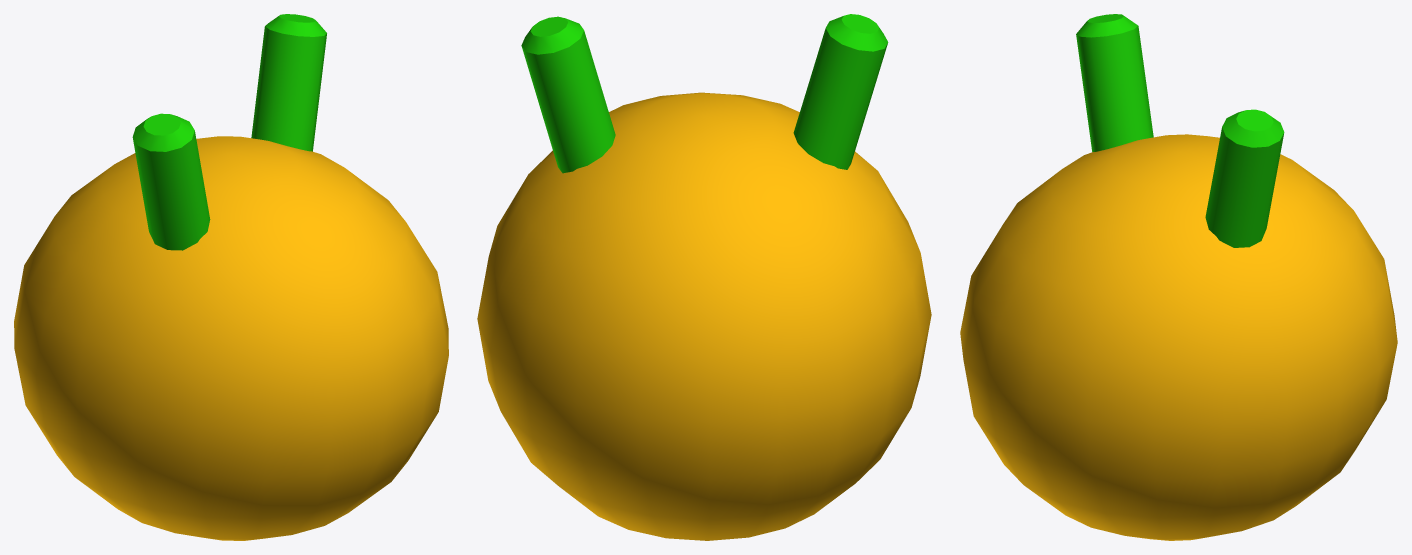
The model's file is 005-Cake_Server1.FBX.
3 renders of one model, left to right at view 1: azimuth 30°, elevation 25°; view 2: azimuth 150°, elevation 25°; view 3: azimuth 270°, elevation 25°, orthographic. The views are drawn at different scales.
Visible parts, largest first — view 1: 005-Cake_Server1; view 2: 005-Cake_Server1; view 3: 005-Cake_Server1.
Boxes of the visible parts, bbox=[...] form: 005-Cake_Server1: bbox=[14, 14, 448, 540]; 005-Cake_Server1: bbox=[477, 14, 931, 540]; 005-Cake_Server1: bbox=[960, 14, 1397, 540].
Size of the model in its own units: 28.94 by 34.33 by 29.82.
